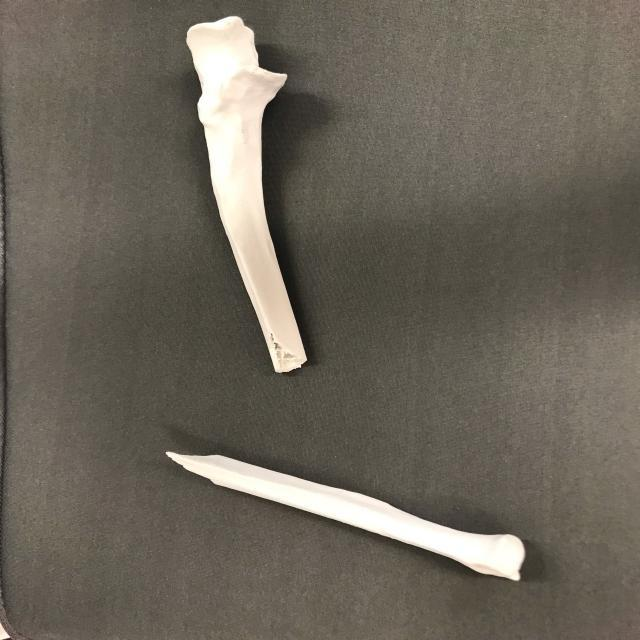bone: (166, 444, 536, 588), (180, 11, 320, 383)
